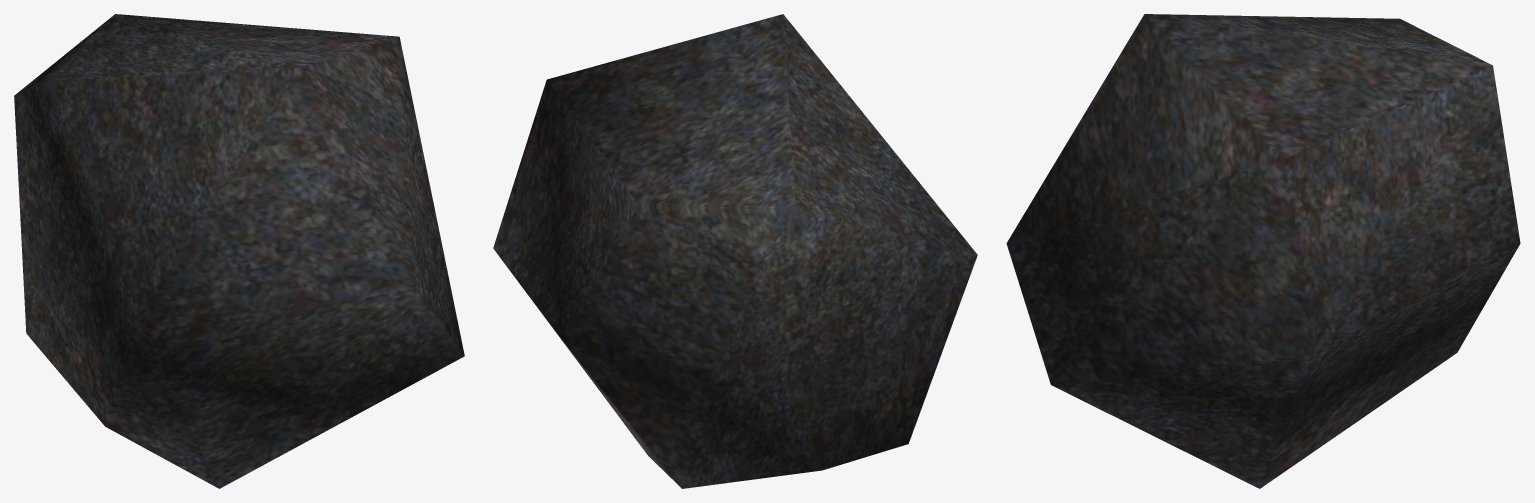
Rendered from asteroid_metal_radial_s03_l3.fbx.
3 renders of one model, left to right at view 1: azimuth 30°, elevation 25°; view 2: azimuth 150°, elevation 25°; view 3: azimuth 270°, elevation 25°, orthographic. The views are drawn at different scales.
Visible parts, largest first — view 1: mesh_node; view 2: mesh_node; view 3: mesh_node.
Boxes of the visible parts, left/top/right/bottom form: mesh_node: left=14, top=14, right=464, bottom=488; mesh_node: left=493, top=14, right=977, bottom=488; mesh_node: left=1006, top=14, right=1520, bottom=488.
Size of the model in its own units: 4.69 by 4.83 by 5.17.
